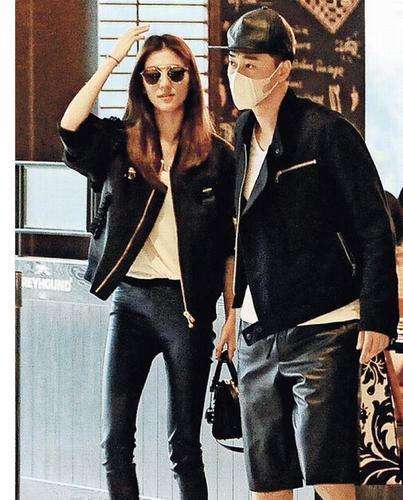NONE: (146, 61, 189, 113)
OK: (222, 48, 284, 110)
